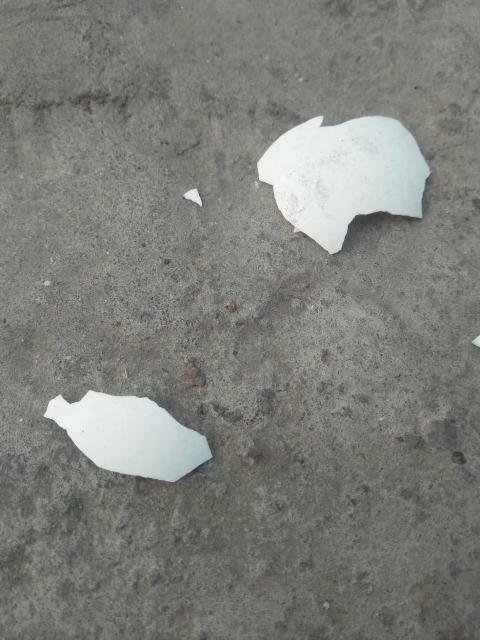Roto: (256, 113, 431, 255), (42, 388, 213, 483)
